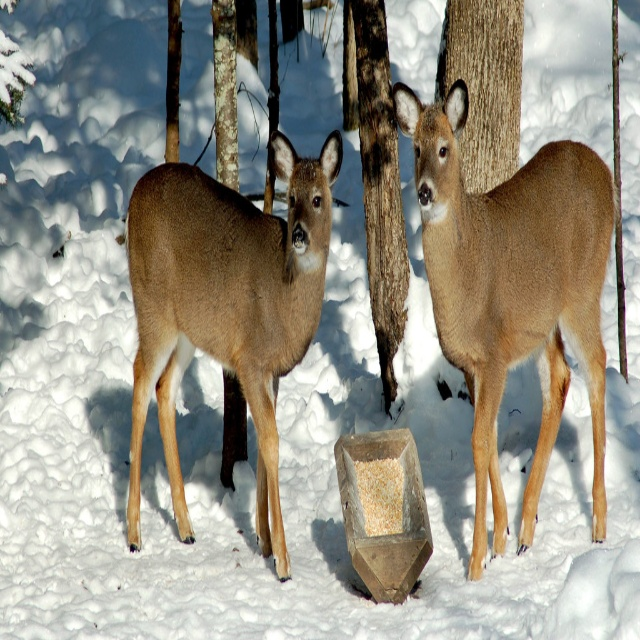Deer: (394, 81, 614, 584), (124, 122, 344, 582)
